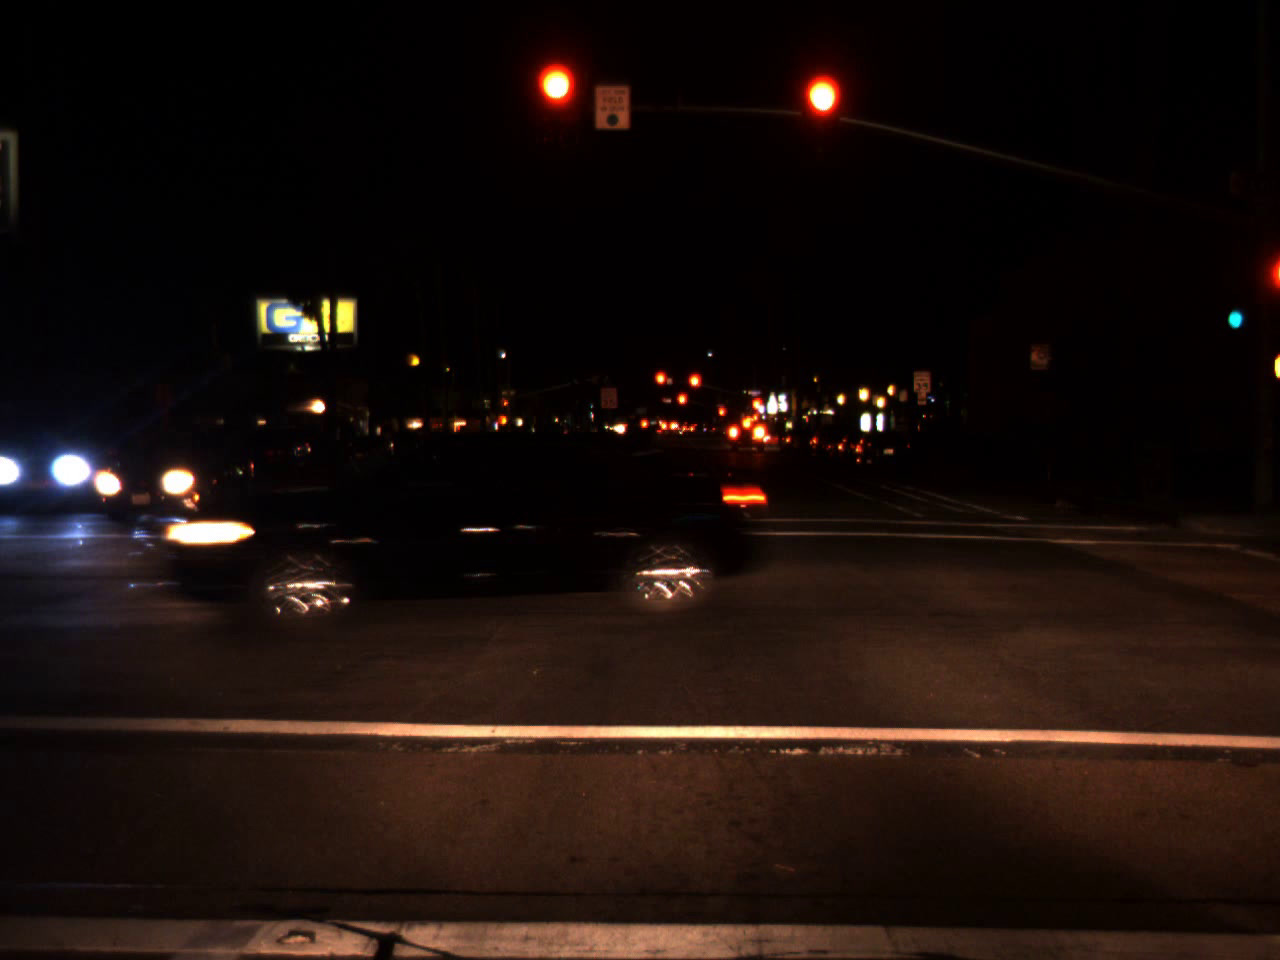stop: (537, 66, 577, 144), (801, 75, 841, 153), (653, 369, 668, 401), (686, 372, 702, 401), (674, 391, 689, 418), (750, 396, 763, 414), (717, 406, 727, 427), (503, 399, 509, 412)
